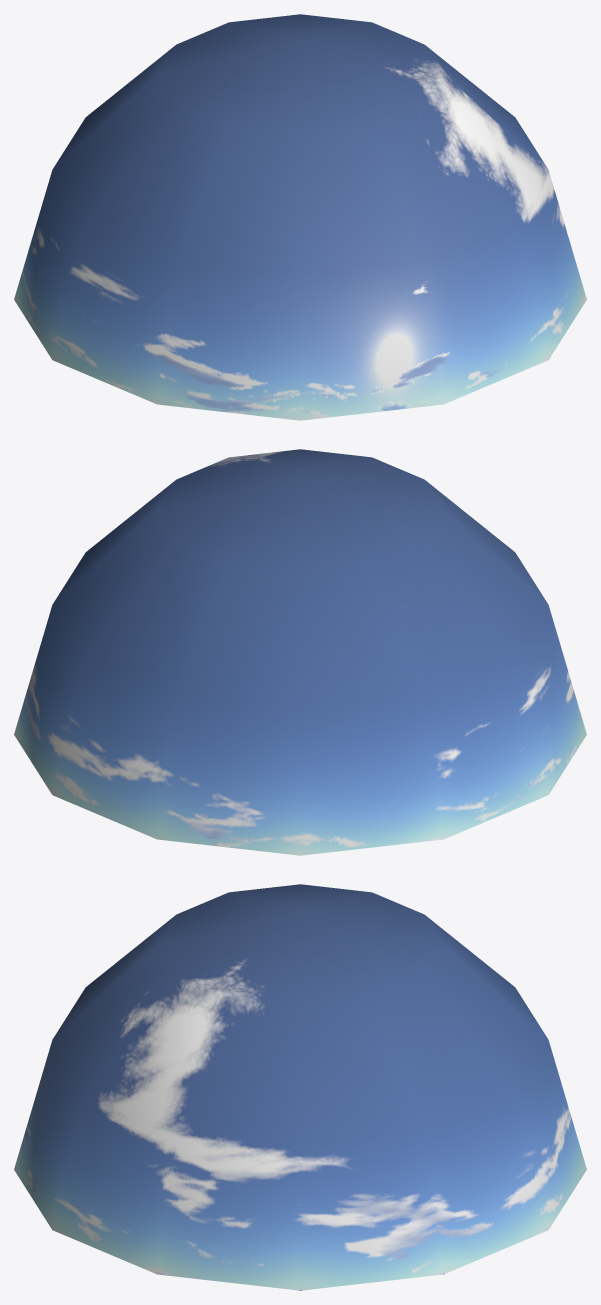
The model's file is skySphere.fbx.
3 views of the same model, one above another, from view 1: azimuth 30°, elevation 25°; view 2: azimuth 150°, elevation 25°; view 3: azimuth 270°, elevation 25° (orthographic).
Parts seen in each view (by area): view 1: Sphere01; view 2: Sphere01; view 3: Sphere01.
Part boxes in pixels (box(x1,y1,x2,y2)): Sphere01: box(14, 14, 586, 420); Sphere01: box(14, 449, 586, 855); Sphere01: box(14, 884, 586, 1290).
Size of the model in its own units: 3648 by 1824 by 3648.
Materials: 1 (1 with a texture image).
